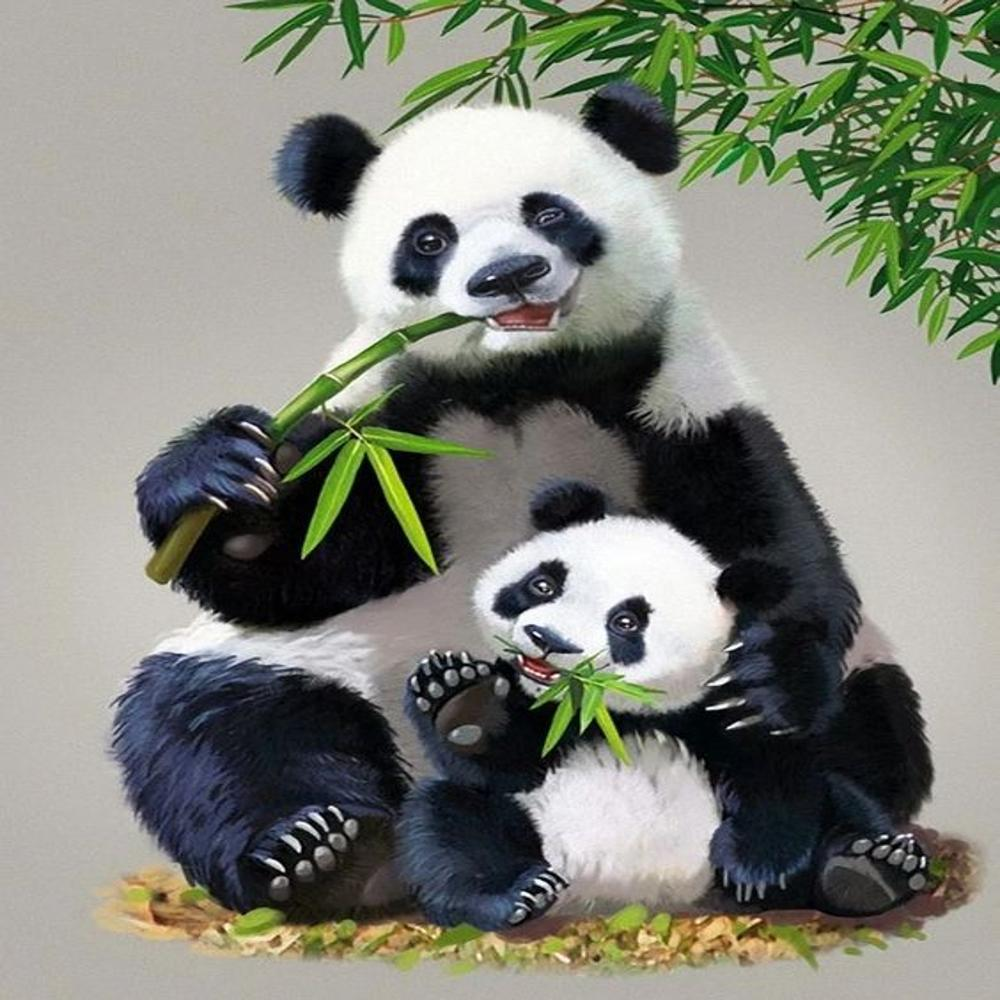panda: (126, 90, 951, 933)
